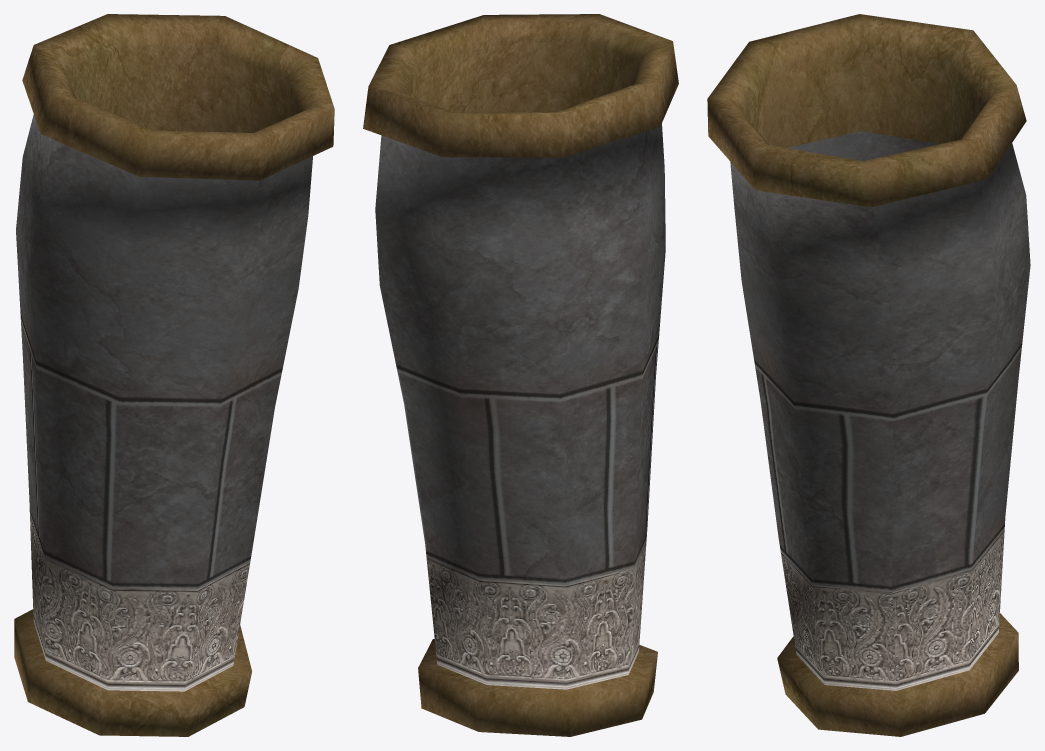
The model's file is LegArmor.fbx.
3 views of the same model, side by side, from view 1: azimuth 30°, elevation 25°; view 2: azimuth 150°, elevation 25°; view 3: azimuth 270°, elevation 25° (orthographic).
Parts seen in each view (by area): view 1: LegArmor_Right; view 2: LegArmor_Right; view 3: LegArmor_Right.
Boxes of the visible parts, x1=… form: LegArmor_Right: x1=14, y1=14, x2=334, y2=736; LegArmor_Right: x1=363, y1=14, x2=678, y2=736; LegArmor_Right: x1=707, y1=14, x2=1030, y2=736.
Size of the model in its own units: 67.93 by 150 by 69.39.
